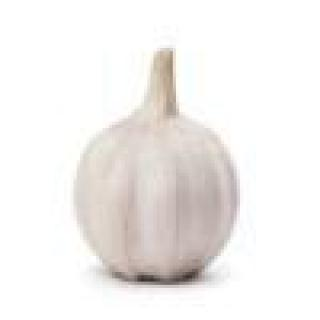Bawang Putih: (68, 43, 251, 280)
